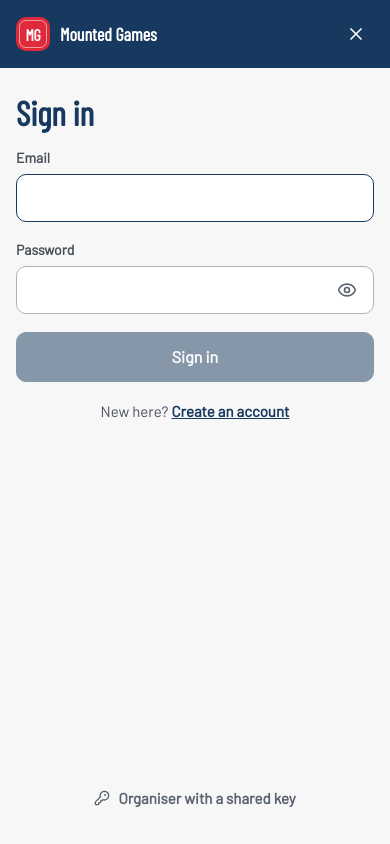
Test: LoginPage › marks the password field and explains under it when the credentials are wrong, with no banner
Type "sam@example.com" into the field labelled "Email" at (195,198), box [29,176,361,220]
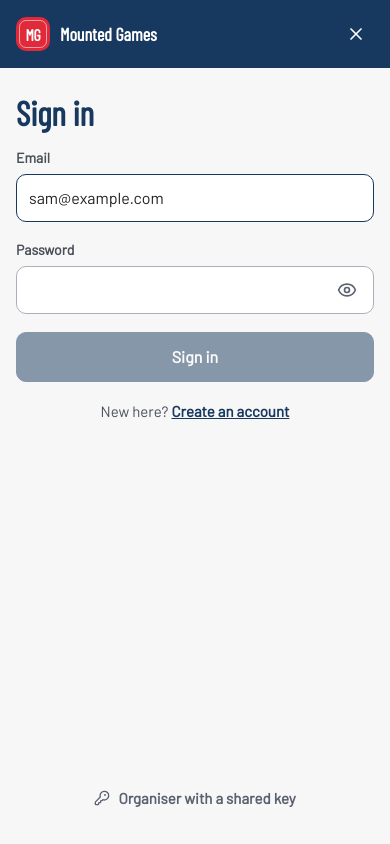
Type "nope" into the password field labelled "Password" at (173,290), box [29,268,317,312]
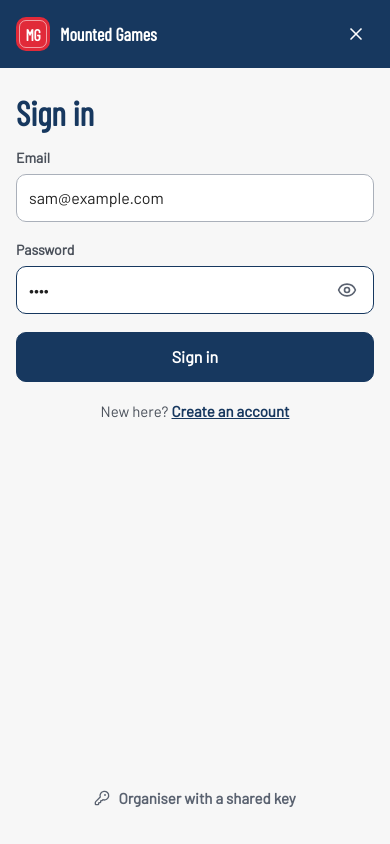
Click the button "Sign in" at (195,357), box [16,332,374,382]
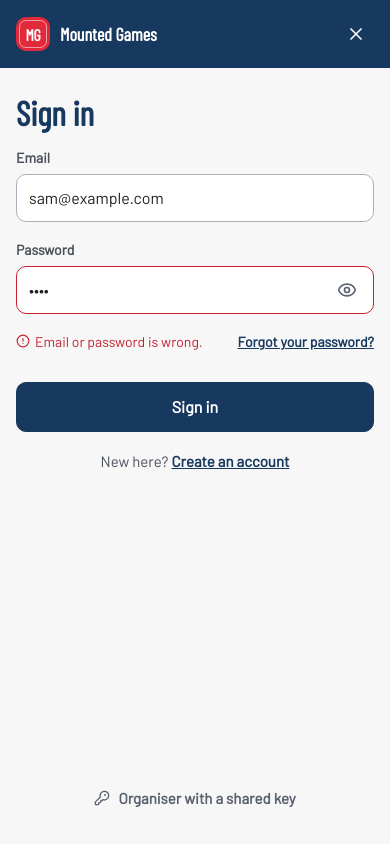
Check: the message reads "Email or password is wrong.", box [35,333,203,350]
Check: the number of messages is 1, box [16,332,203,352]
# Typing again clears the message, but the way to reset stays.
Type "x" into the password field labelled "Password" at (173,290), box [29,268,317,312]
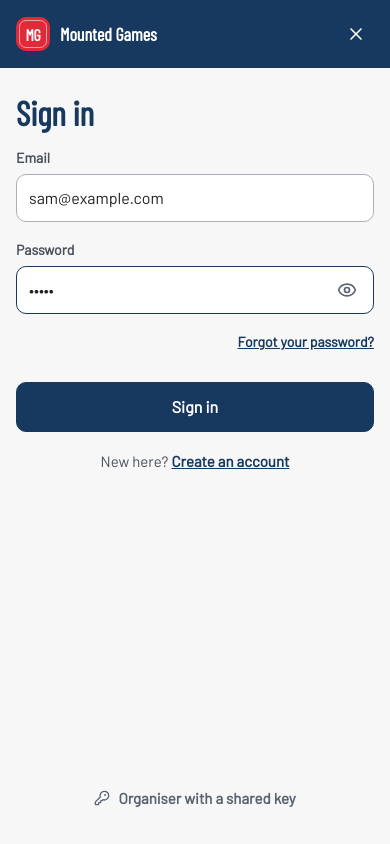
Check: the link "Forgot your password?" is shown, box [238,332,374,352]
Check: the message "Email or password is wrong." is gone
